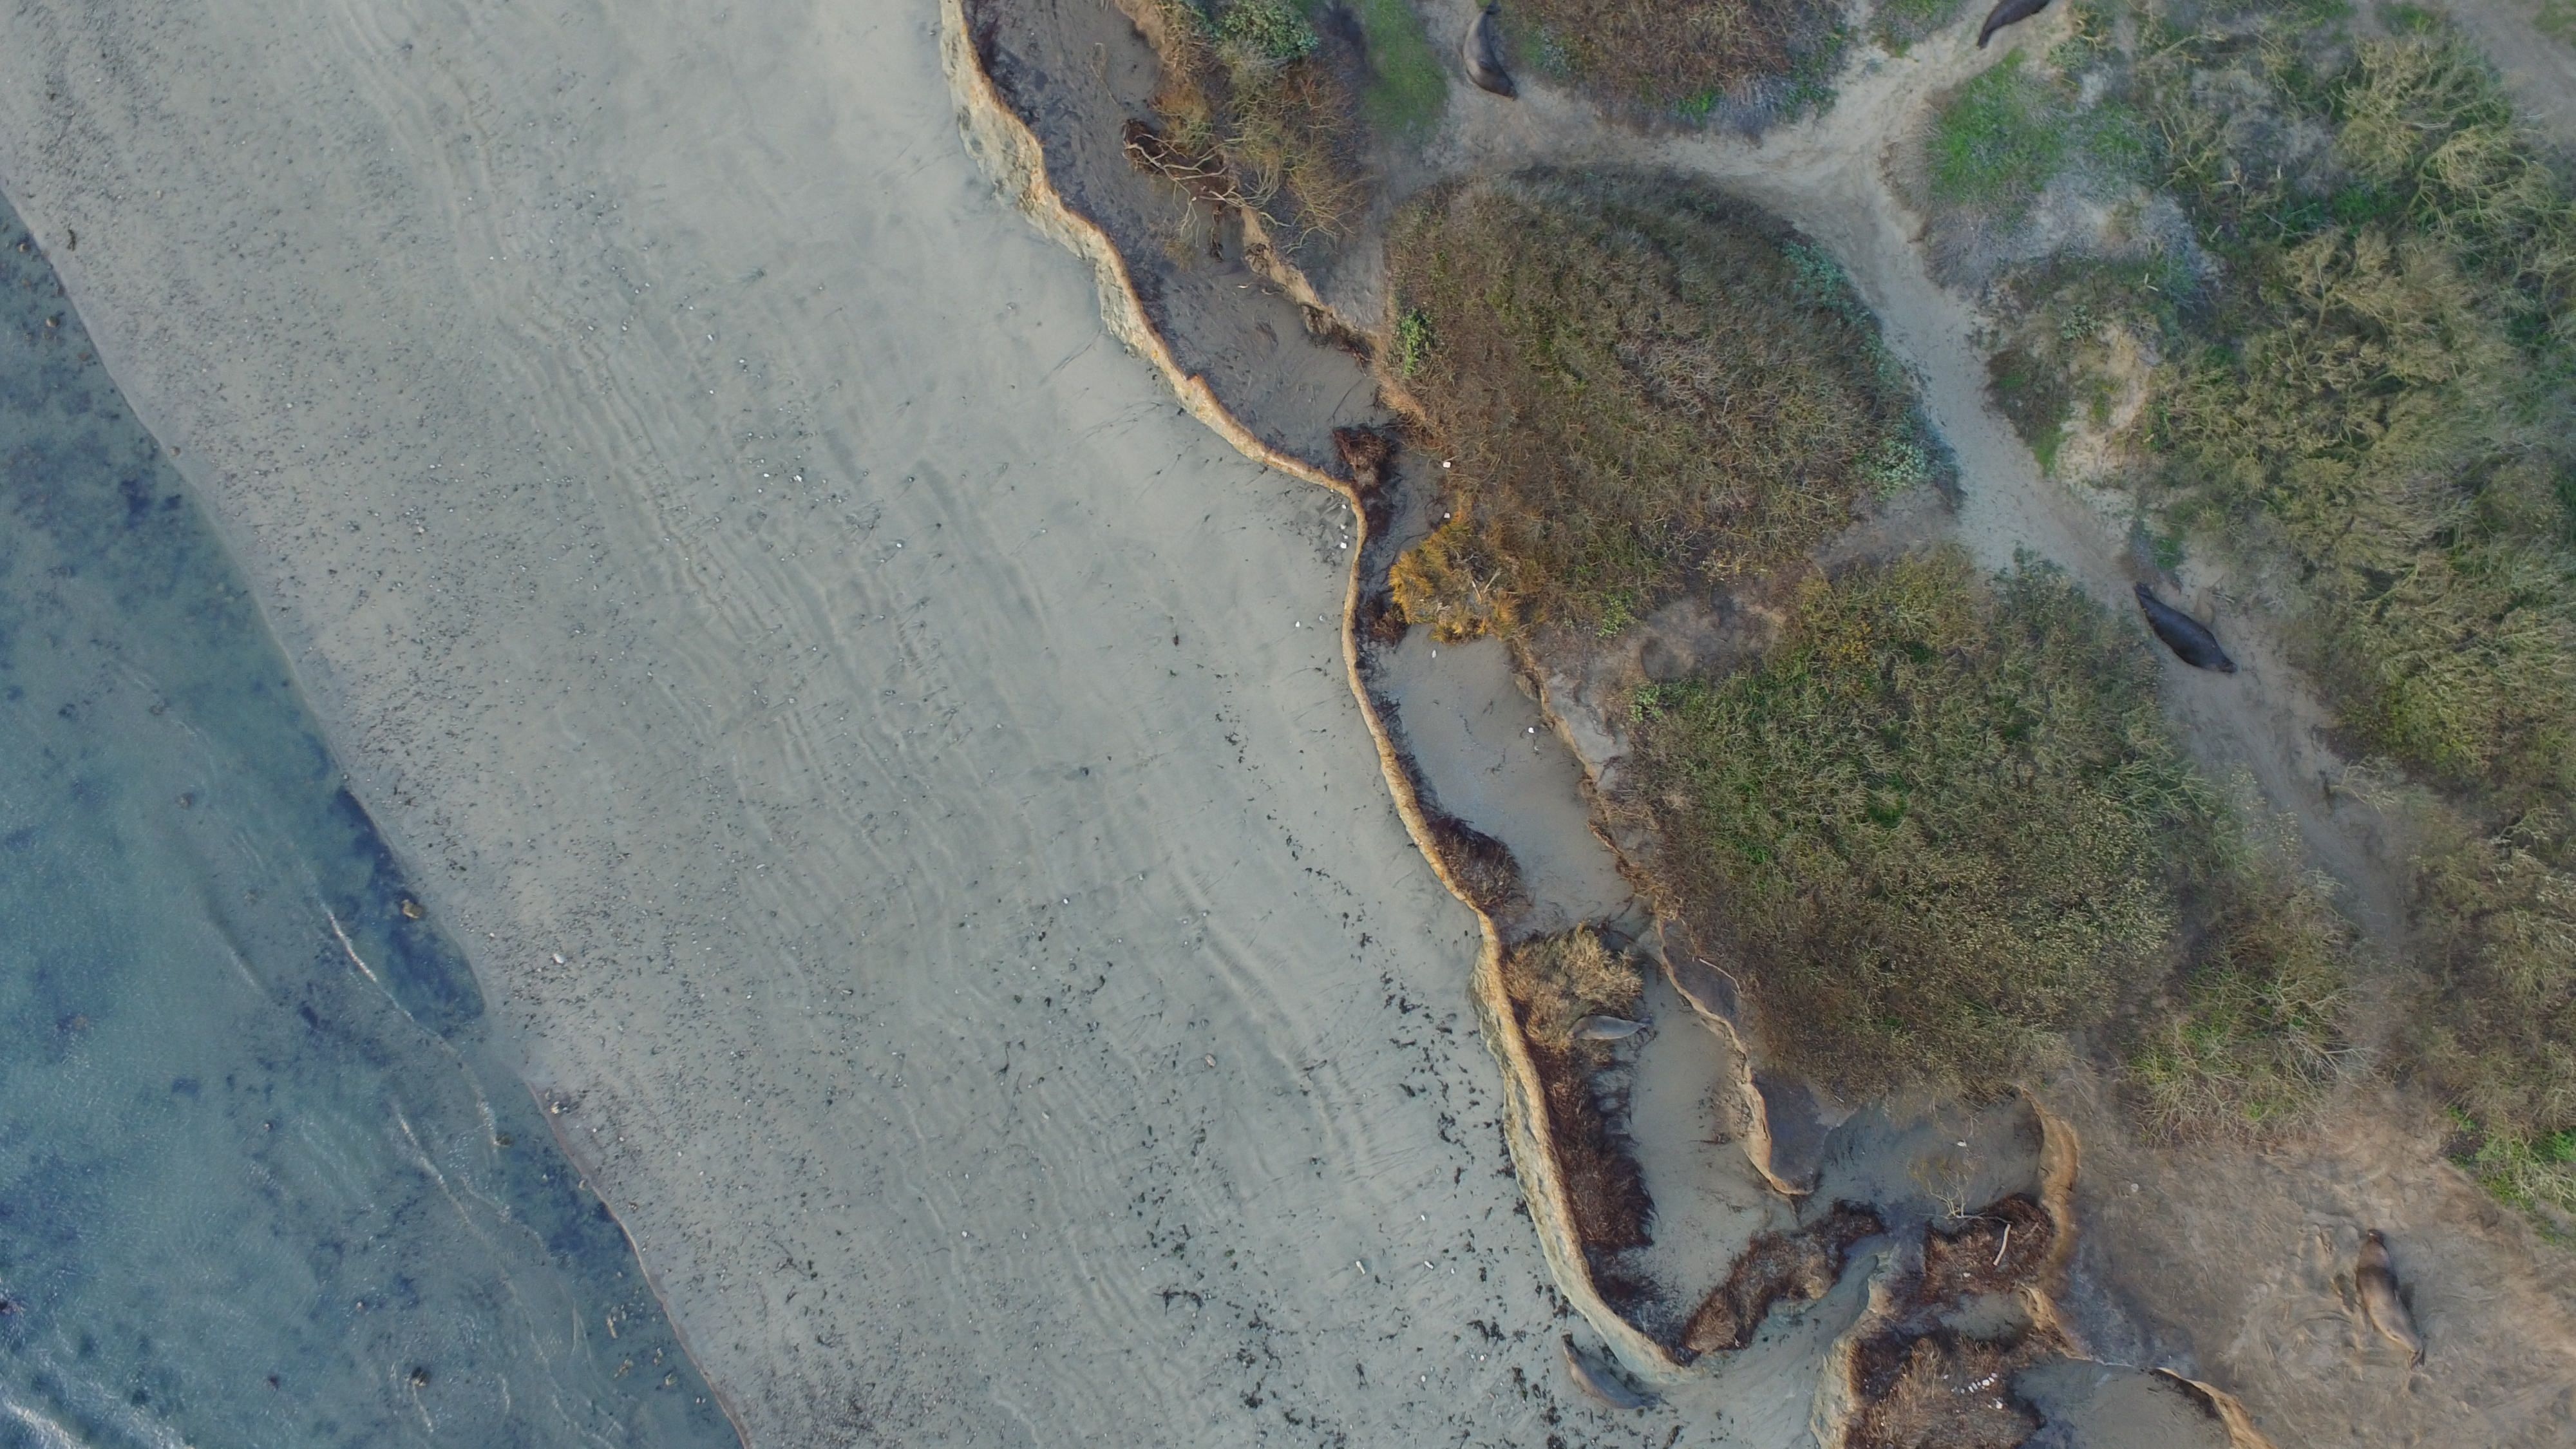Adult Female or Young Male: (2344, 1224, 2431, 1364), (2125, 584, 2242, 679), (1555, 1332, 1667, 1417), (1453, 4, 1522, 104), (1969, 0, 2054, 57), (1552, 1010, 1658, 1047)
